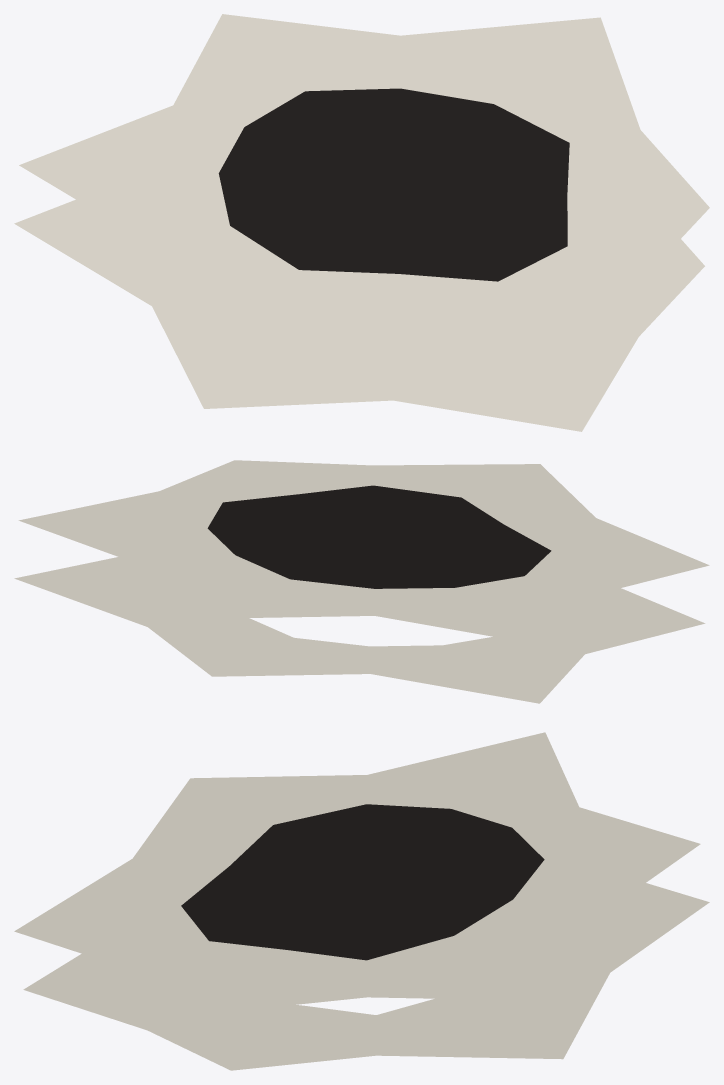
Rendered from hole_stand_01.obj.
3 views of the same model, one above another, from view 1: azimuth 30°, elevation 25°; view 2: azimuth 150°, elevation 25°; view 3: azimuth 270°, elevation 25° (orthographic). The views are drawn at different scales.
Size of the model in its own units: 0.0531 by 0.0134 by 0.0579.
